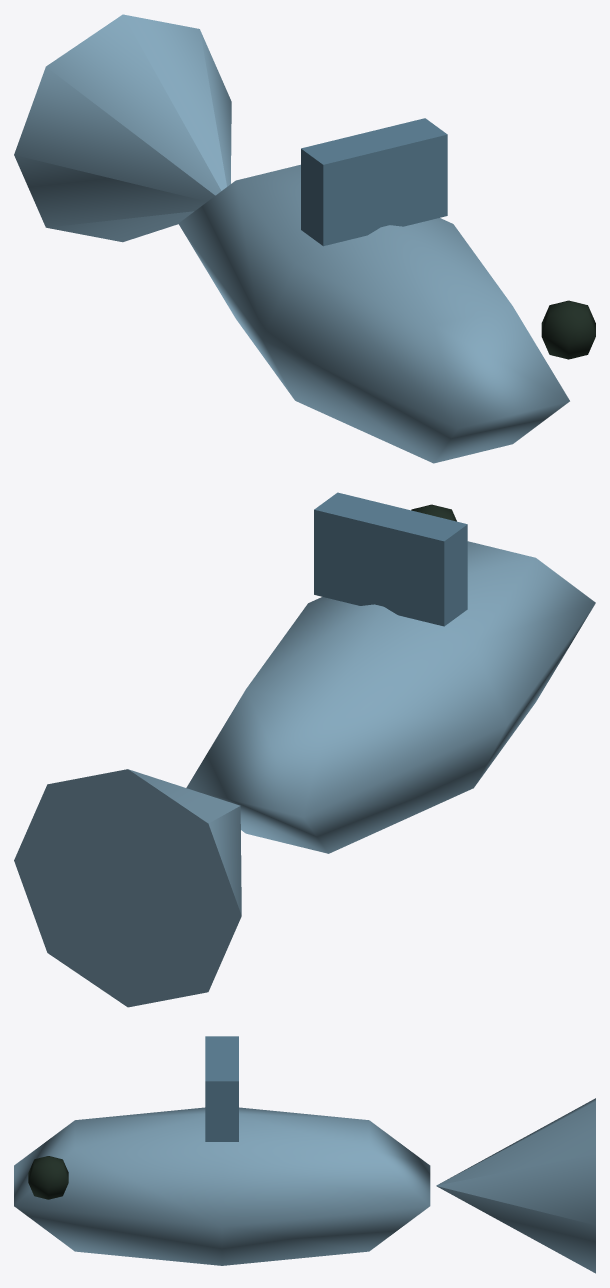
Rendered from item_fish.glb.
3 renders of one model, top to bottom at view 1: azimuth 30°, elevation 25°; view 2: azimuth 150°, elevation 25°; view 3: azimuth 270°, elevation 25°, orthographic. The views are drawn at different scales.
Visible parts, largest first — view 1: item_fish; view 2: item_fish; view 3: item_fish.
Boxes of the visible parts, x1,y1,x2,y2 form: item_fish: (14, 14, 595, 463); item_fish: (14, 492, 595, 1007); item_fish: (14, 1036, 595, 1273).
Bounding box in the file's own units: 0.288 × 0.35 × 0.8718.
